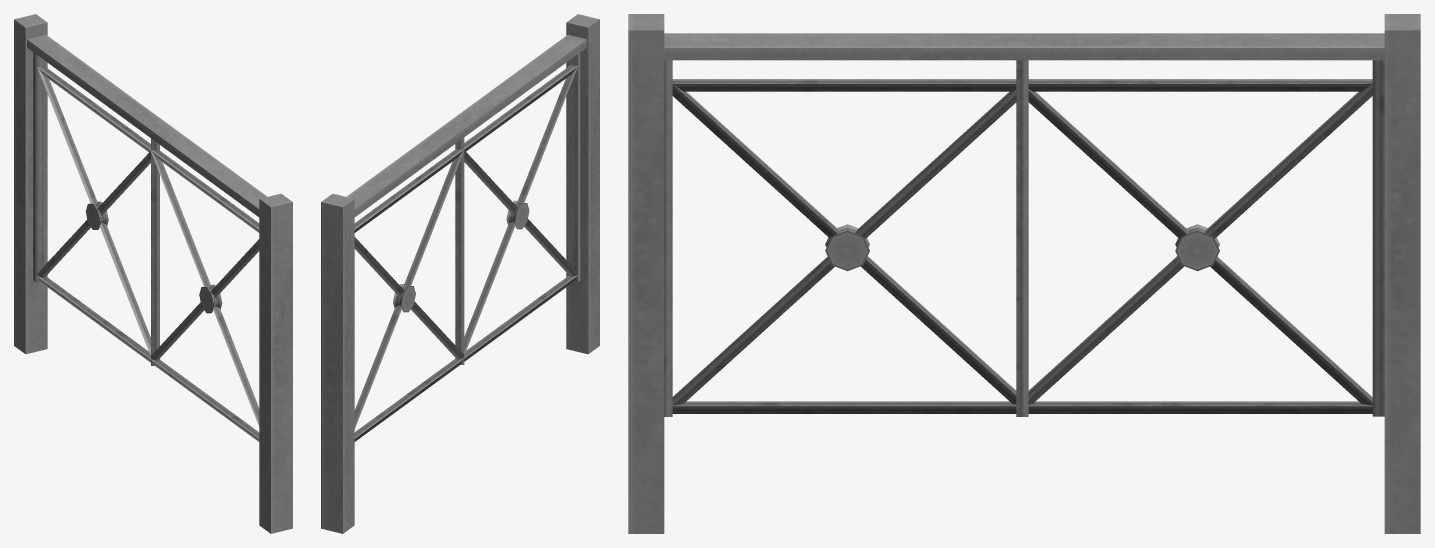
Rendered from fence_metal_01_ru.fbx.
The picture shows the model from 3 angles, left to right: view 1: azimuth 30°, elevation 25°; view 2: azimuth 150°, elevation 25°; view 3: azimuth 270°, elevation 25°; orthographic projection. The views are drawn at different scales.
Parts seen in each view (by area): view 1: End 02; view 2: End 02; view 3: End 02.
Part boxes in pixels (left/top/right/bottom): End 02: left=14, top=14, right=292, bottom=533; End 02: left=321, top=14, right=599, bottom=533; End 02: left=628, top=14, right=1420, bottom=533.
Bounding box in the file's own units: 0.0809 × 1.15 × 1.64.
